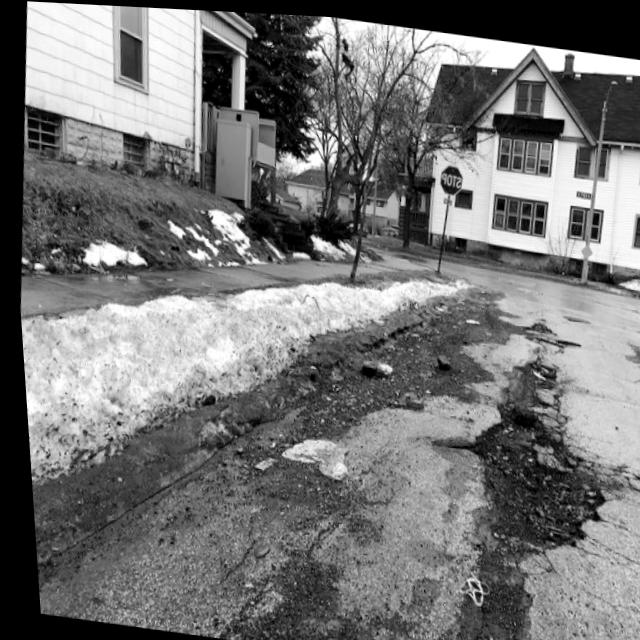pathole: (392, 292, 615, 640)
